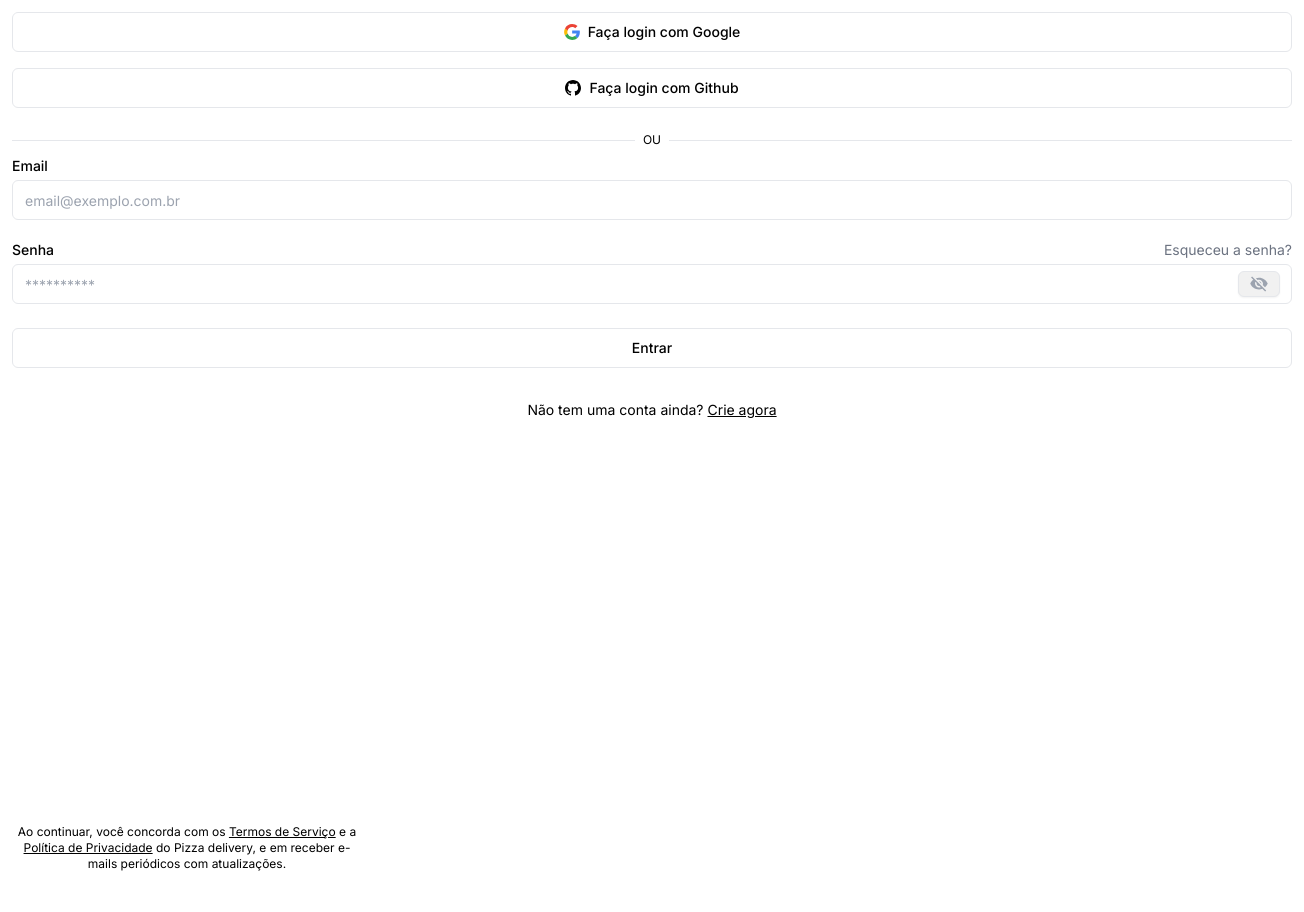
<UserAuthFormLogin/> › should display error messages when fields are empty or wrongs
This screenshot has width=1304, height=912.
Click the button "Entrar" at {"x": 652, "y": 348}, box [12, 328, 1292, 368]
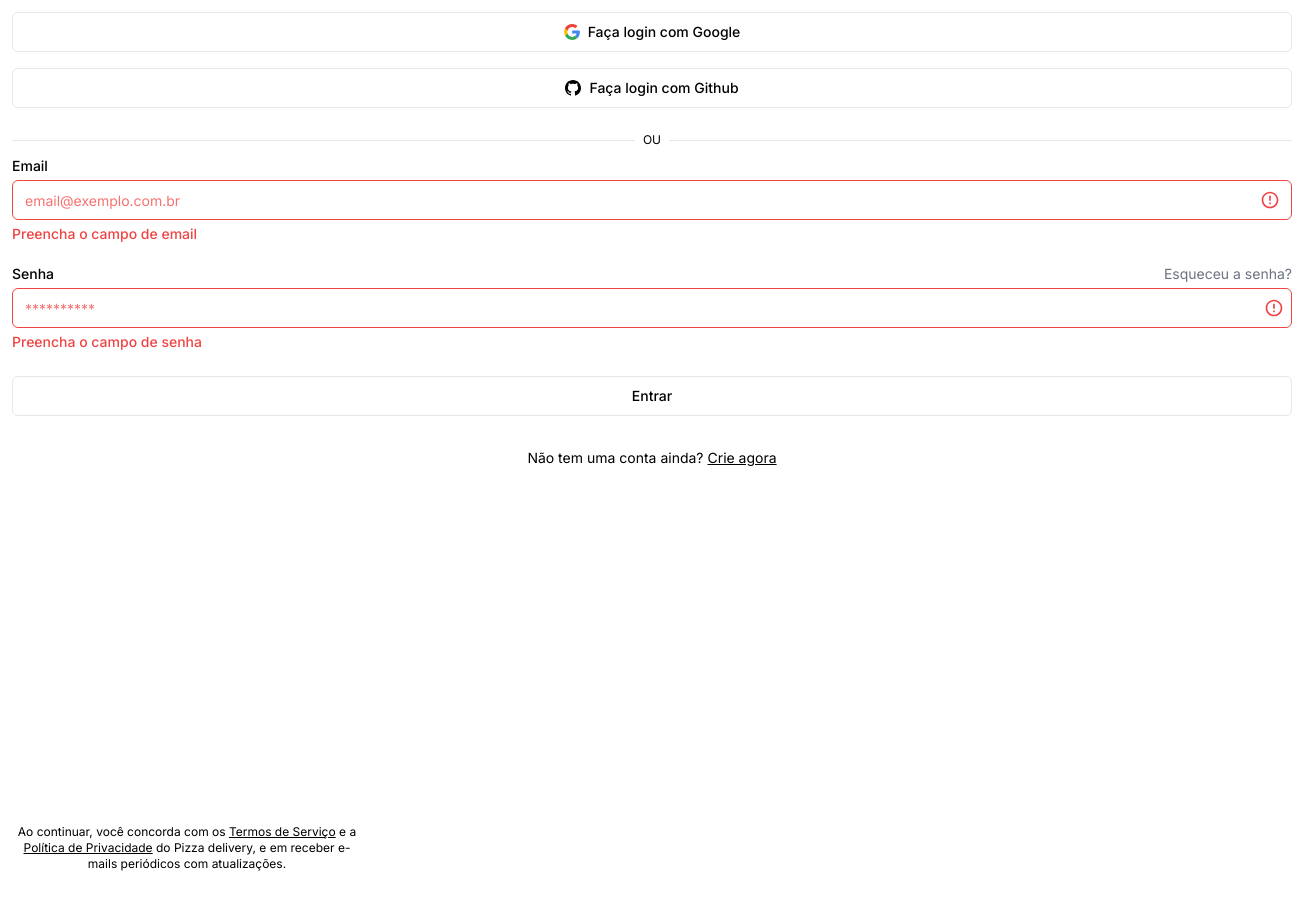
Expected: the text "Preencha o campo de email" is shown, [12, 225, 197, 242]
Expected: the text "Preencha o campo de senha" is shown, [12, 333, 202, 350]
Expected: the icon with test id "warning-icon-email" is shown, [1260, 190, 1280, 210]
Type "123" into the password field labelled "Senha" at {"x": 652, "y": 308}, box [12, 288, 1292, 328]
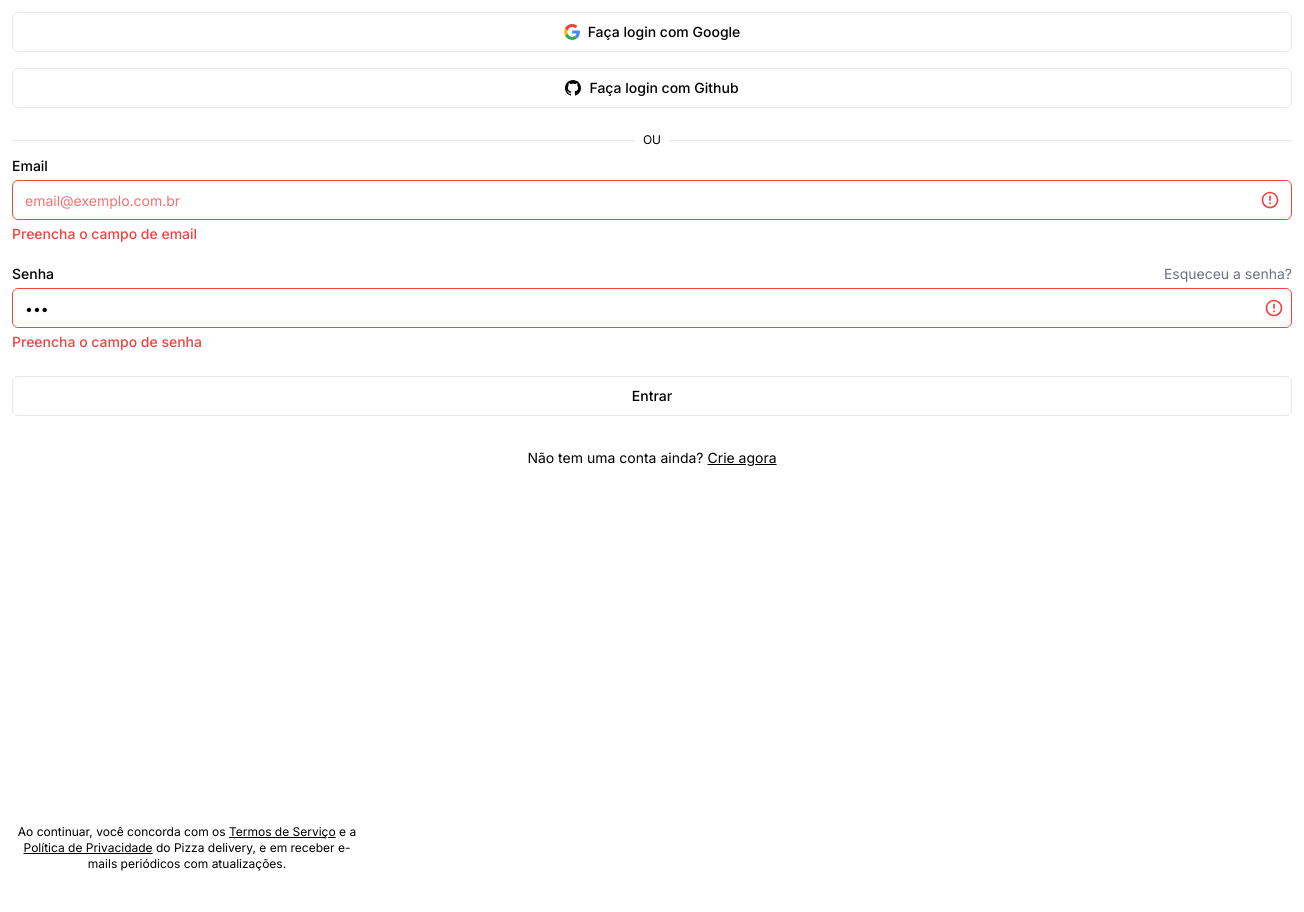
Click the button "Entrar" at {"x": 652, "y": 396}, box [12, 376, 1292, 416]
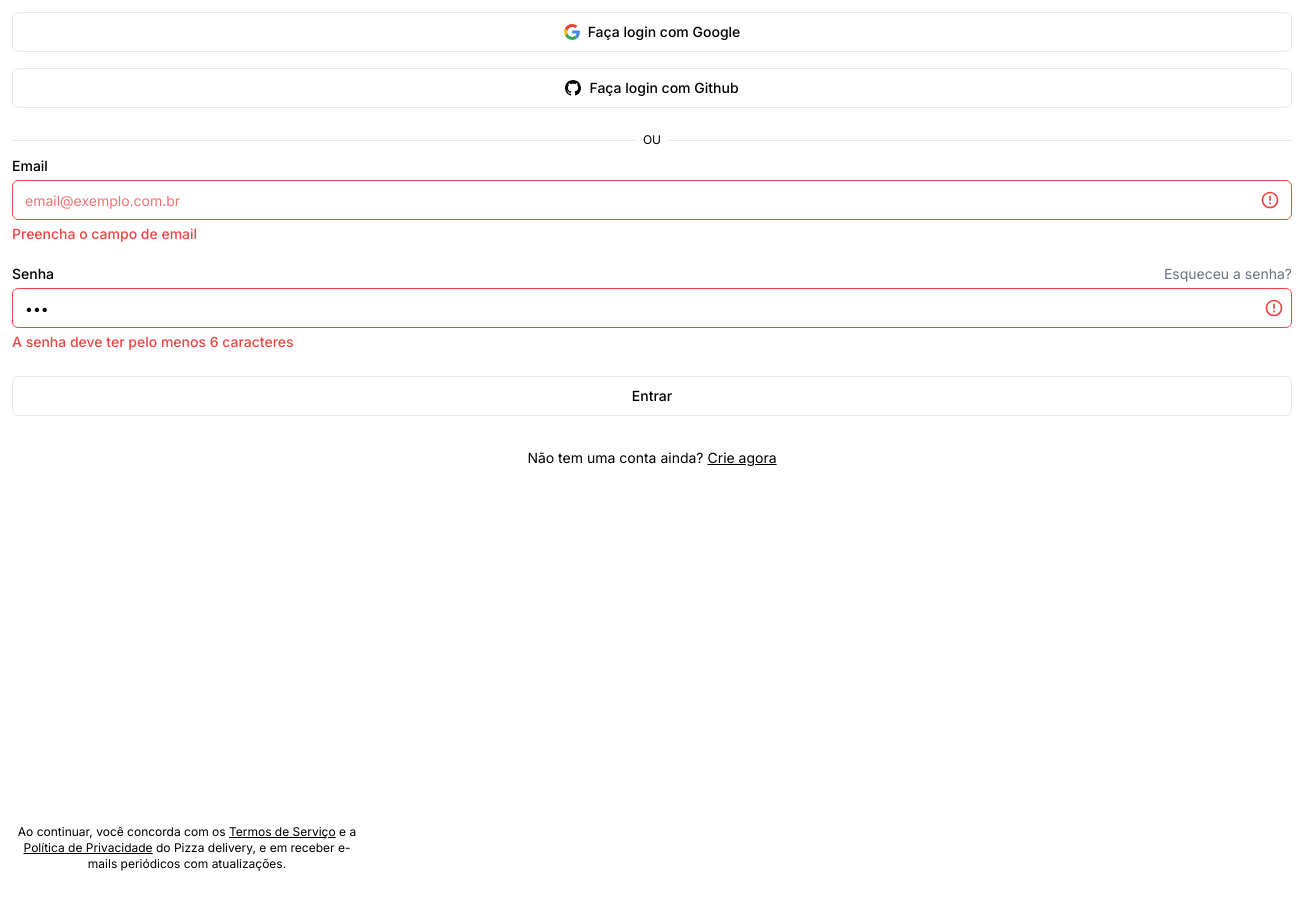
Expected: the text "A senha deve ter pelo menos 6 caracteres" is shown, [12, 333, 294, 350]
